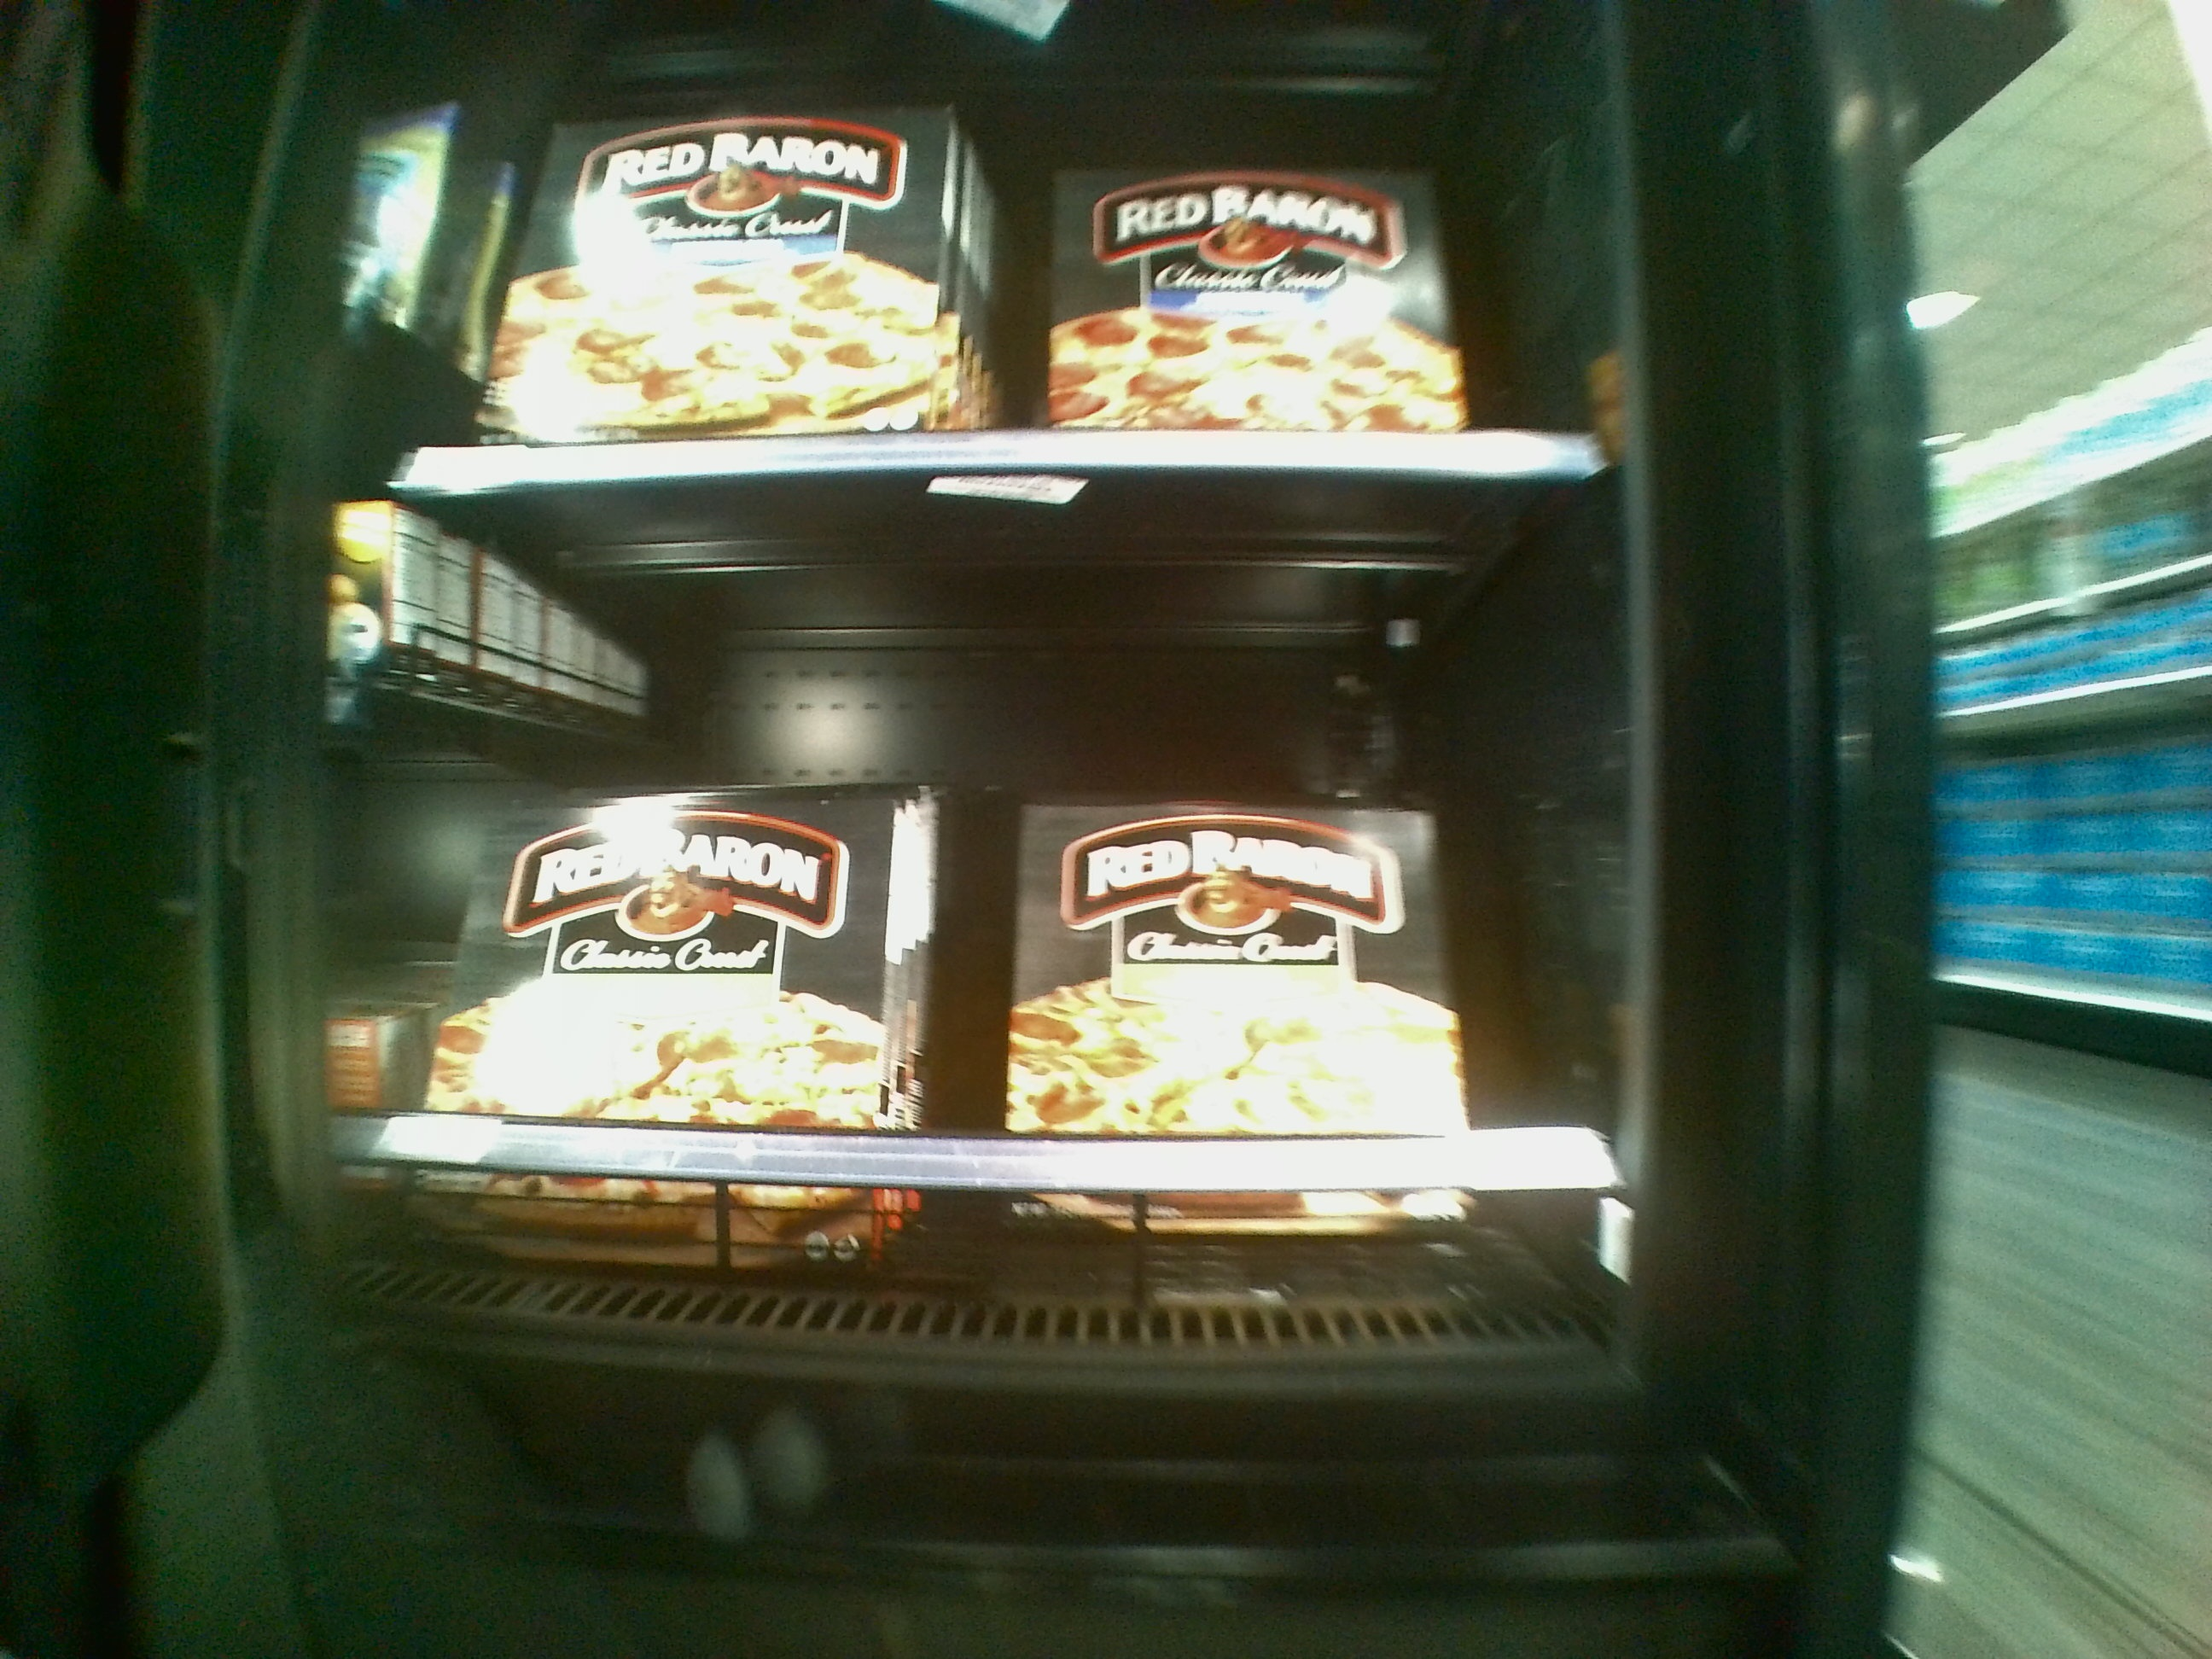shelf: (394, 504, 1608, 1319), (401, 7, 1616, 519)
